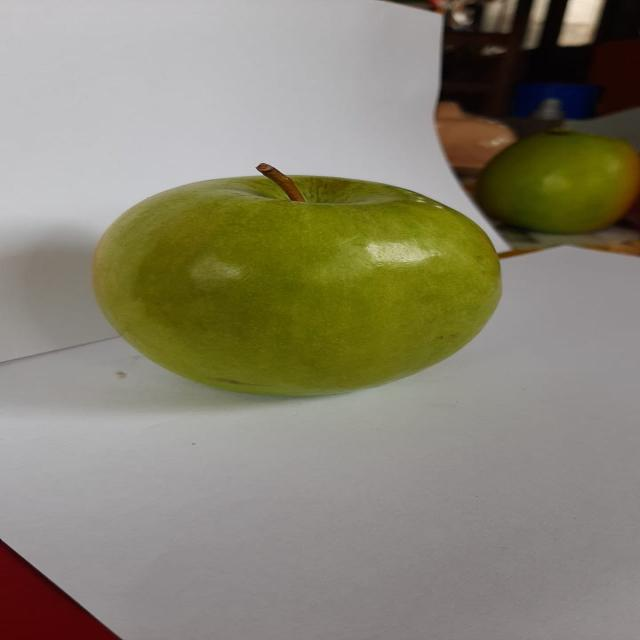50-_ripeness: (79, 158, 508, 409)
